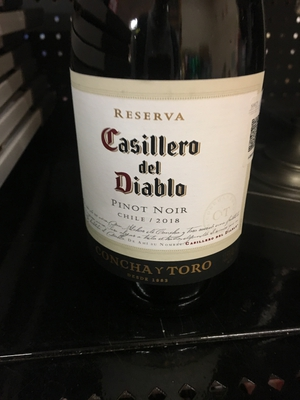casillero del diablo pinot noir: (59, 11, 274, 329)
